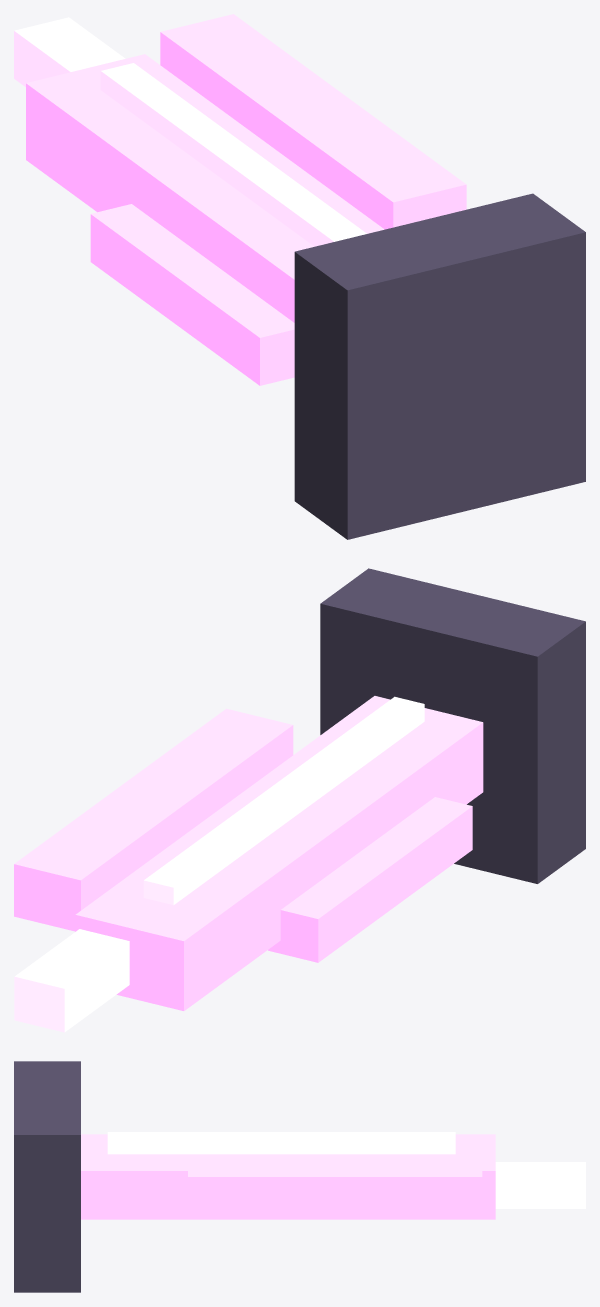
Rendered from interact_hazard_rift.glb.
3 renders of one model, top to bottom at view 1: azimuth 30°, elevation 25°; view 2: azimuth 150°, elevation 25°; view 3: azimuth 270°, elevation 25°, orthographic. The views are drawn at different scales.
Visible parts, largest first — view 1: interact_hazard_rift; view 2: interact_hazard_rift; view 3: interact_hazard_rift.
Boxes of the visible parts, box(x1,y1,x2,y2) form: interact_hazard_rift: box(14, 14, 585, 539); interact_hazard_rift: box(14, 568, 585, 1032); interact_hazard_rift: box(14, 1061, 585, 1292).
Size of the model in its own units: 1.4 by 1.3 by 4.28.
